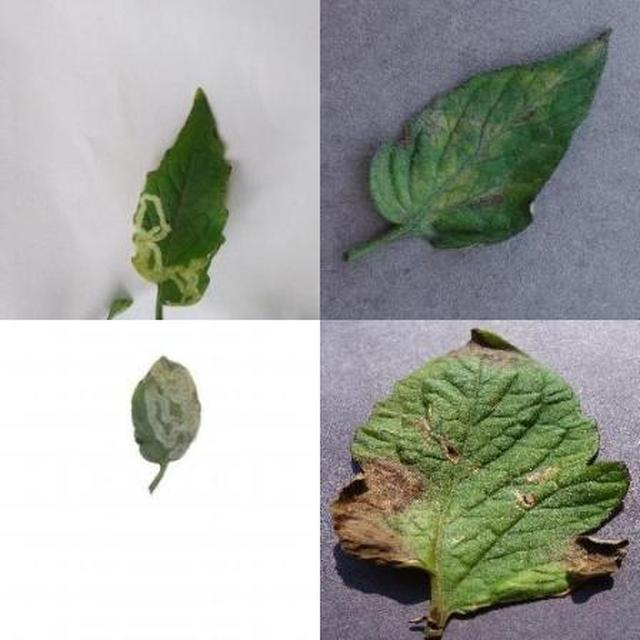Leaf Miner: (102, 158, 640, 640)
